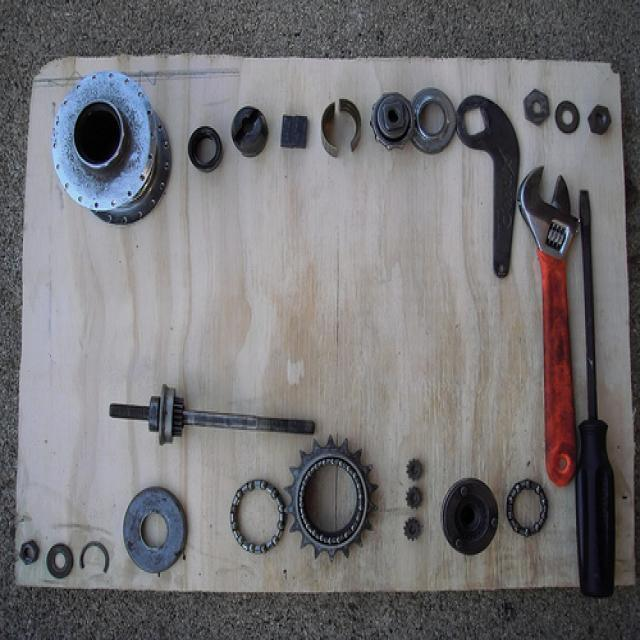screwdriver: (572, 185, 624, 604)
wrench: (513, 160, 585, 492)
